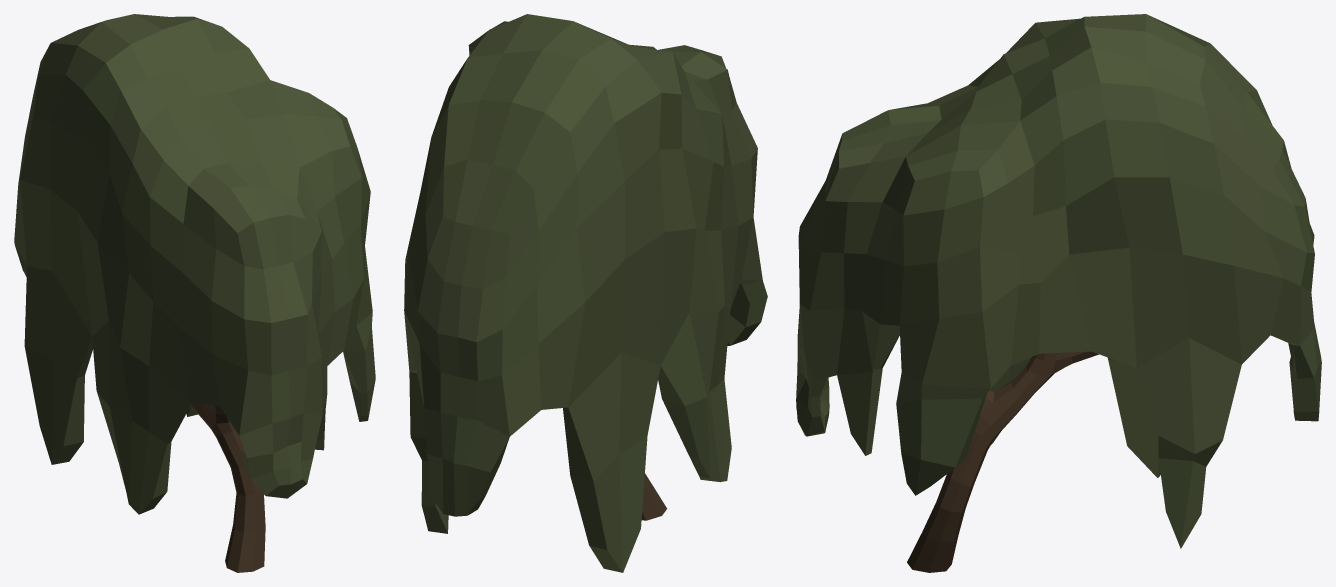
File: willow.fbx
The picture shows the model from 3 angles, left to right: view 1: azimuth 30°, elevation 25°; view 2: azimuth 150°, elevation 25°; view 3: azimuth 270°, elevation 25°; orthographic projection. The views are drawn at different scales.
Visible parts, largest first — view 1: willow; view 2: willow; view 3: willow.
Boxes of the visible parts, <box> form: willow: <box>14,14,375,572</box>; willow: <box>404,14,767,572</box>; willow: <box>796,14,1321,572</box>.
Bounding box in the file's own units: 1.45 × 2.85 × 2.55.
